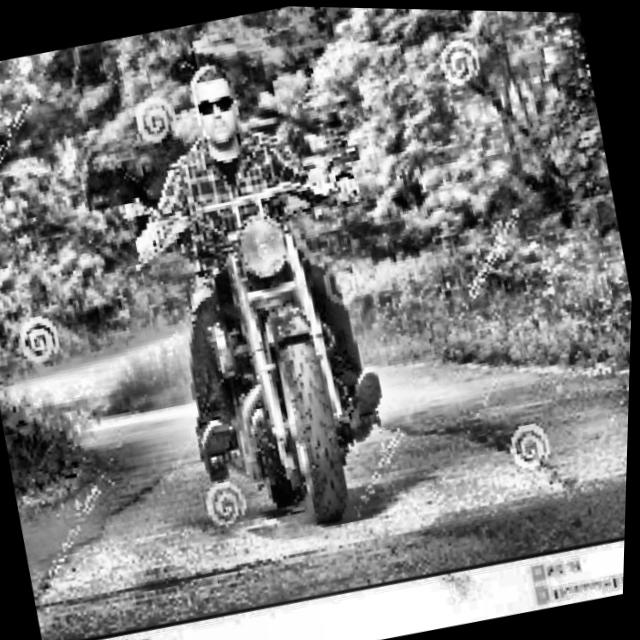motorcycle: (92, 121, 445, 558)
